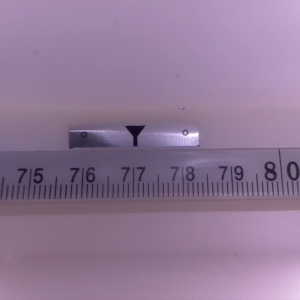0: (285, 161, 300, 181)
5: (32, 168, 43, 184)
6: (85, 167, 95, 183)
7: (15, 168, 27, 184), (68, 168, 79, 183), (135, 166, 145, 182), (168, 166, 178, 181), (217, 166, 227, 181), (120, 166, 129, 182)
8: (263, 161, 276, 180), (185, 166, 194, 181)
9: (233, 166, 243, 181)
finger: (124, 126, 146, 147)
